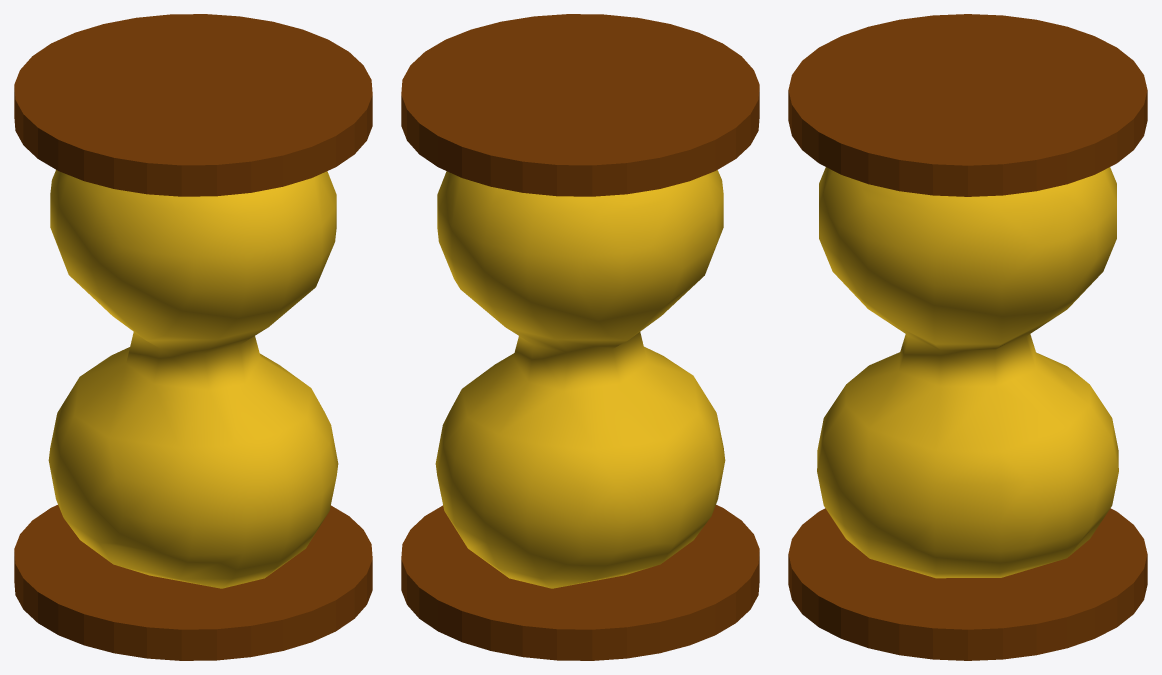
Rendered from klepsydra.fbx.
3 views of the same model, side by side, from view 1: azimuth 30°, elevation 25°; view 2: azimuth 150°, elevation 25°; view 3: azimuth 270°, elevation 25° (orthographic).
Visible parts, largest first — view 1: Core, Base; view 2: Core, Base; view 3: Core, Base.
Boxes of the visible parts, <box> form: Core: <box>48,170,338,588</box>; Base: <box>14,14,372,660</box>; Core: <box>435,170,725,588</box>; Base: <box>401,14,759,660</box>; Core: <box>817,167,1118,578</box>; Base: <box>788,14,1147,660</box>.
Size of the model in its own units: 329 by 501 by 329.
